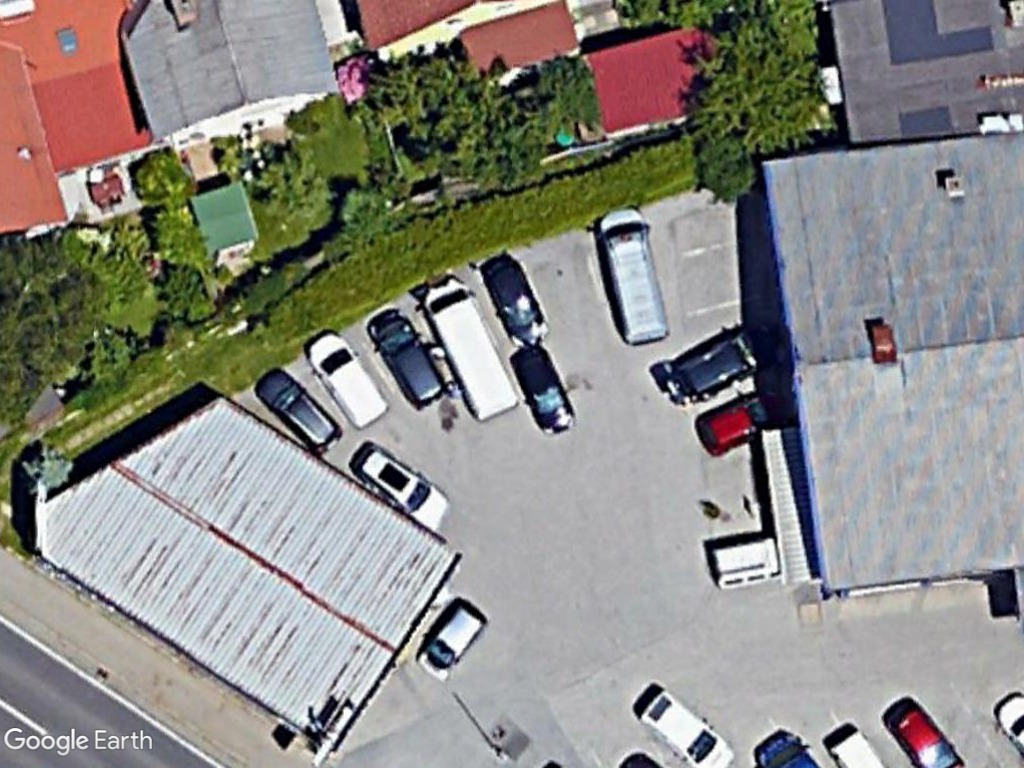car: (663, 321, 784, 408), (352, 439, 454, 534), (256, 362, 348, 462), (638, 684, 740, 768), (366, 309, 445, 410), (509, 343, 581, 438), (479, 255, 550, 350), (414, 598, 489, 683)
van: (416, 275, 524, 426), (591, 205, 673, 350), (305, 329, 390, 433)
